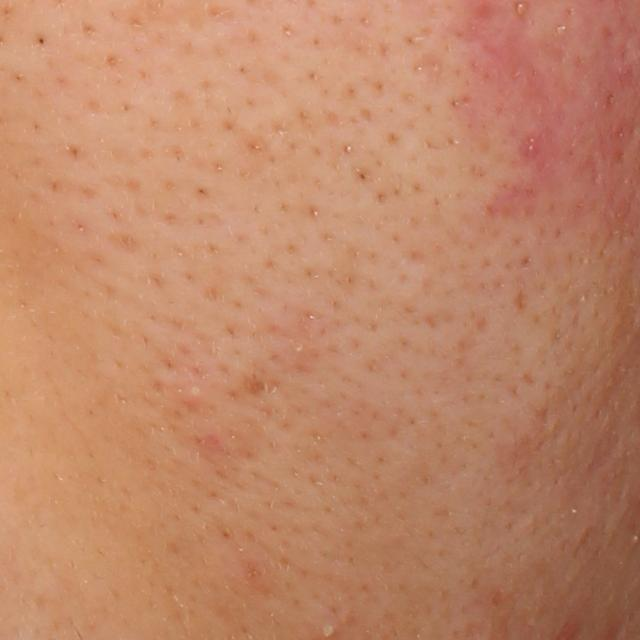atrophic_scar: (407, 48, 445, 97)
